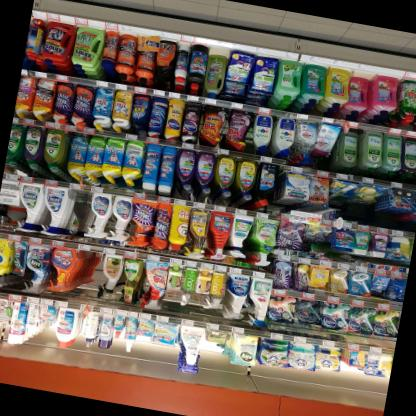empty_space: (76, 188, 92, 233), (89, 253, 105, 292)
